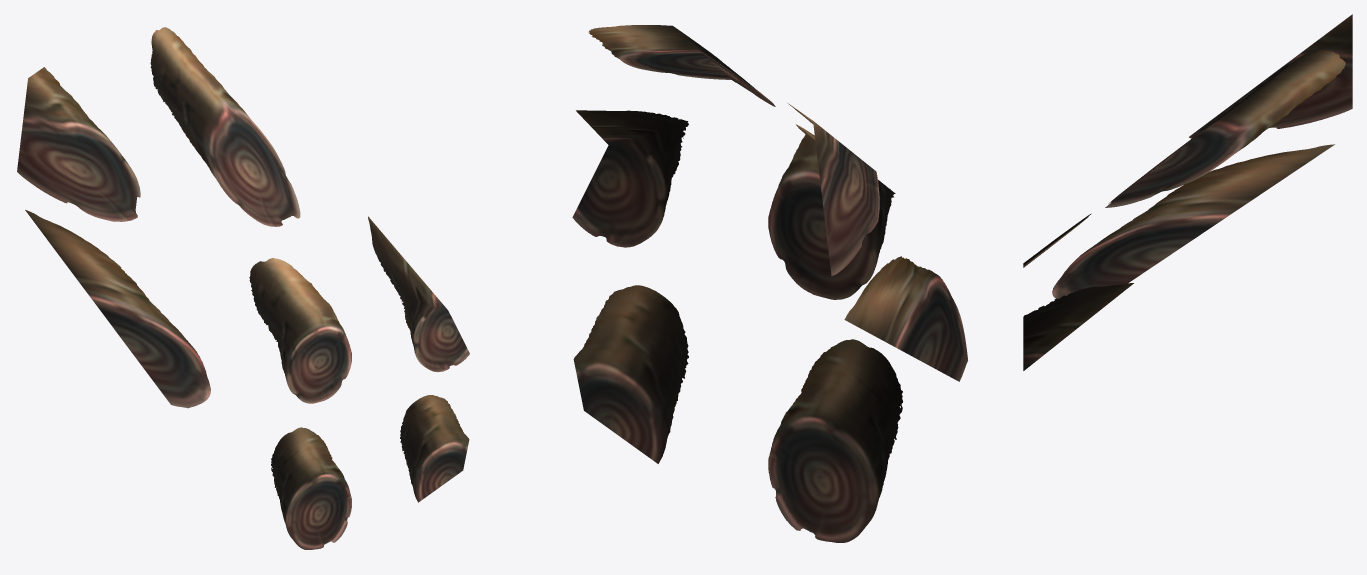
Rendered from Spinning Log.FBX.
3 renders of one model, left to right at view 1: azimuth 30°, elevation 25°; view 2: azimuth 150°, elevation 25°; view 3: azimuth 270°, elevation 25°, orthographic. The views are drawn at different scales.
Parts seen in each view (by area): view 1: Spinning Log; view 2: Spinning Log; view 3: Spinning Log.
Part boxes in pixels (x1,y1,x2,y2): Spinning Log: (17,27,469,549); Spinning Log: (572,25,967,542); Spinning Log: (1023,14,1352,370).
Bounding box in the file's own units: 207 × 167 × 277.
